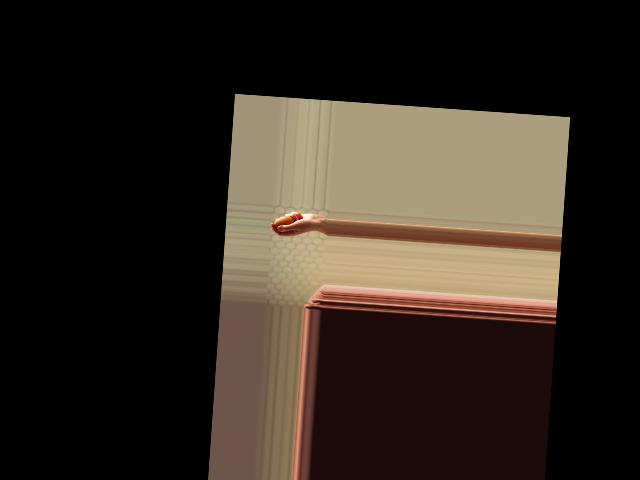egg: (274, 214, 294, 231)
